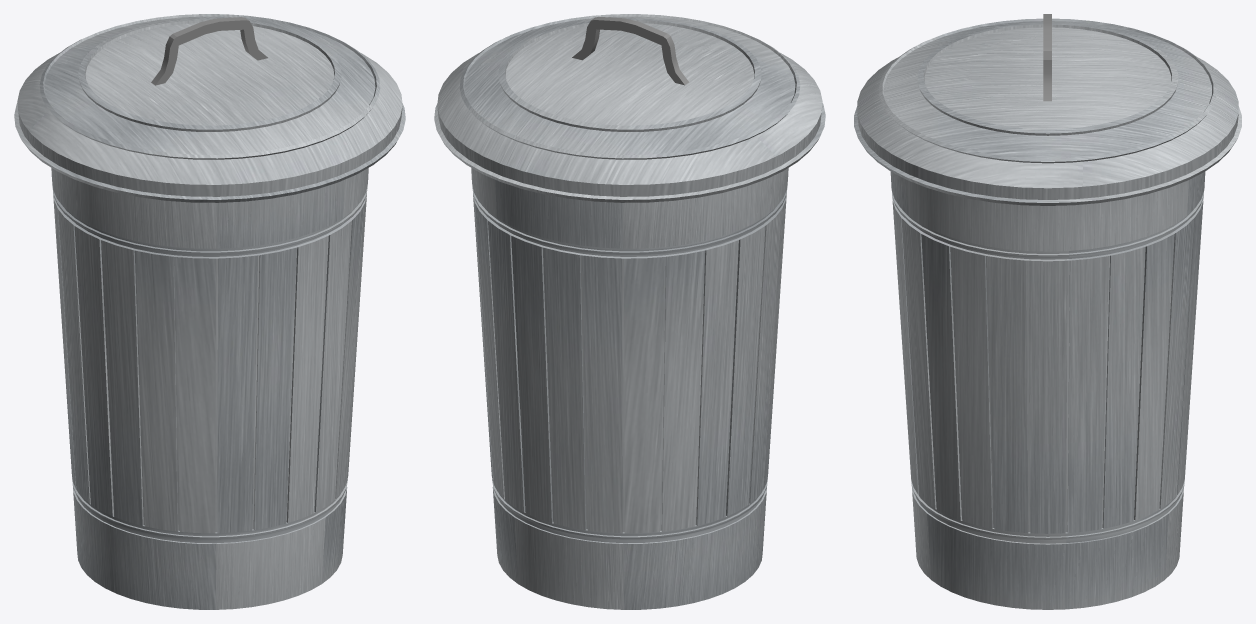
File: bin1.fbx
3 renders of one model, left to right at view 1: azimuth 30°, elevation 25°; view 2: azimuth 150°, elevation 25°; view 3: azimuth 270°, elevation 25°, orthographic.
Visible parts, largest first — view 1: pCube20; view 2: pCube20; view 3: pCube20.
Part boxes in pixels (box(x1,y1,x2,y2)): pCube20: box(14, 14, 405, 609); pCube20: box(434, 14, 825, 609); pCube20: box(854, 14, 1241, 609).
Bounding box in the file's own units: 5.58 × 8.36 × 5.57.
Materials: 3 (1 with a texture image).
